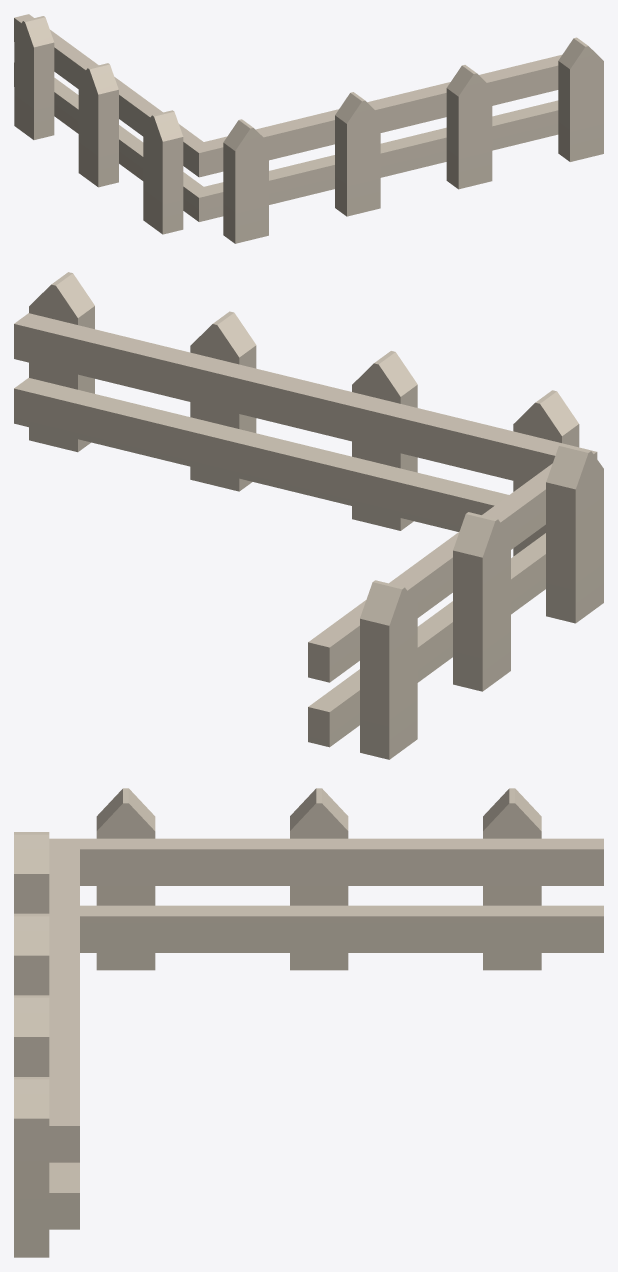
File: fence white left.fbx
3 renders of one model, top to bottom at view 1: azimuth 30°, elevation 25°; view 2: azimuth 150°, elevation 25°; view 3: azimuth 270°, elevation 25°, orthographic. The views are drawn at different scales.
Parts seen in each view (by area): view 1: fence_white_left; view 2: fence_white_left; view 3: fence_white_left.
Part boxes in pixels (left/top/right/bottom): fence_white_left: left=14, top=14, right=603, bottom=243; fence_white_left: left=14, top=272, right=603, bottom=759; fence_white_left: left=14, top=788, right=603, bottom=1257.
Bounding box in the file's own units: 408 × 105 × 336.
Materials: 1 (1 with a texture image).
